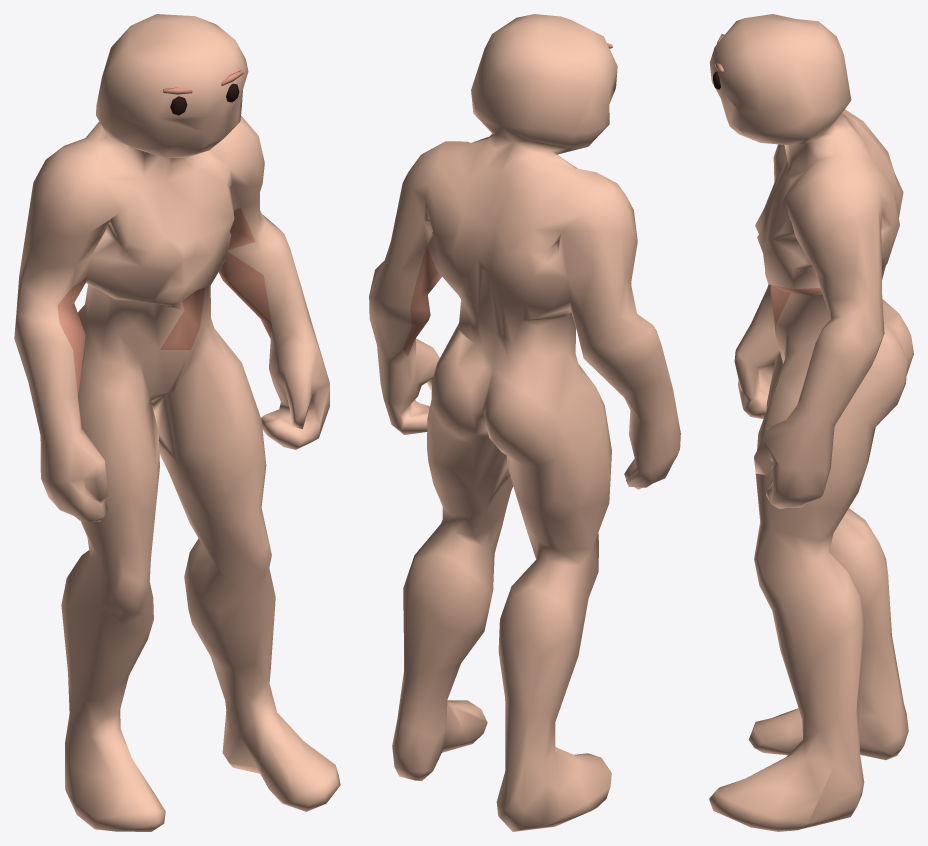
File: brawnhide.glb
The picture shows the model from 3 angles, left to right: view 1: azimuth 30°, elevation 25°; view 2: azimuth 150°, elevation 25°; view 3: azimuth 270°, elevation 25°; orthographic projection. The views are drawn at different scales.
Parts seen in each view (by area): view 1: brawnhide, brawnhide_face; view 2: brawnhide; view 3: brawnhide.
Boxes of the visible parts, box(x1,y1,x2,y2) form: brawnhide: box(14, 14, 340, 831); brawnhide_face: box(163, 70, 243, 115); brawnhide: box(369, 14, 680, 831); brawnhide: box(709, 14, 913, 831).
Size of the model in its own units: 0.8055 by 2.1 by 0.5192.
